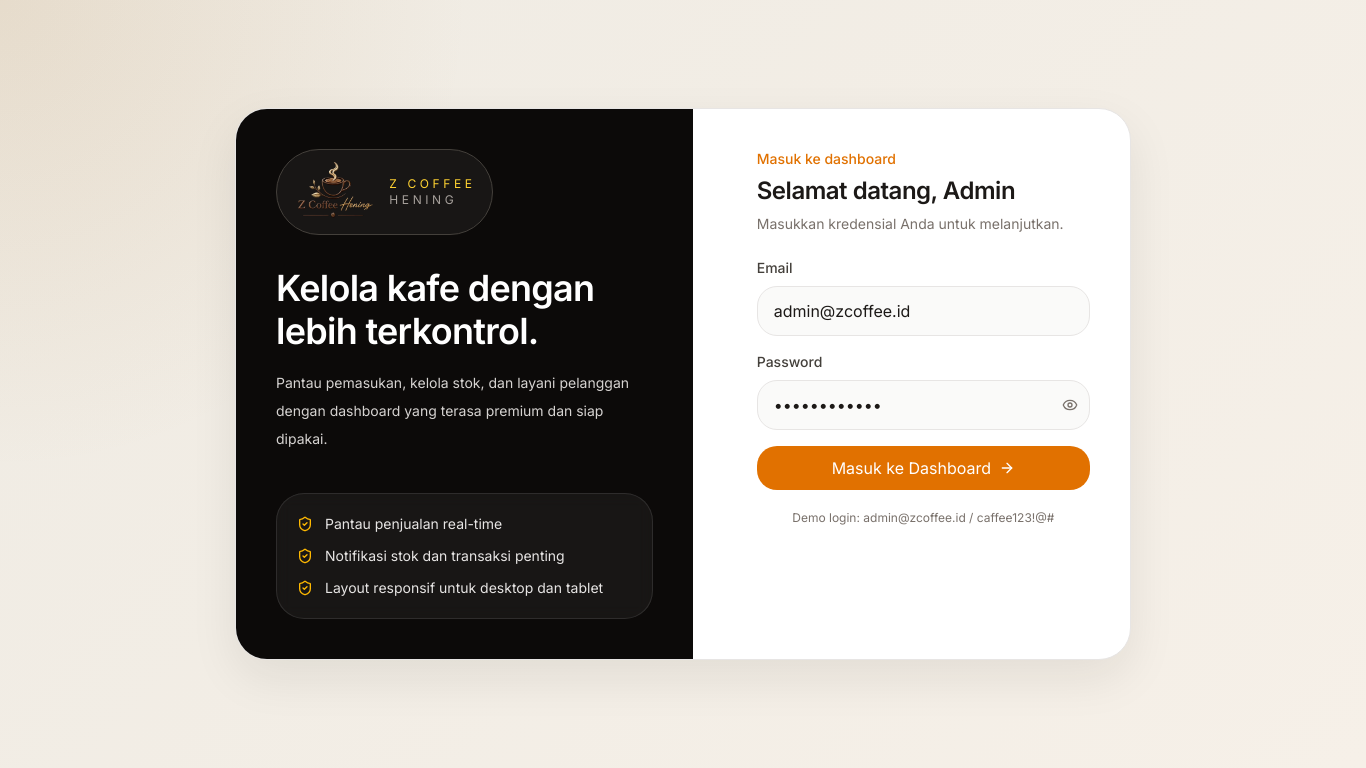
Scenario: Login Page › shows validation error for short password
Replace the text in the field named "Email" with "test@example.com": point(923, 311) [757,286,1090,336]
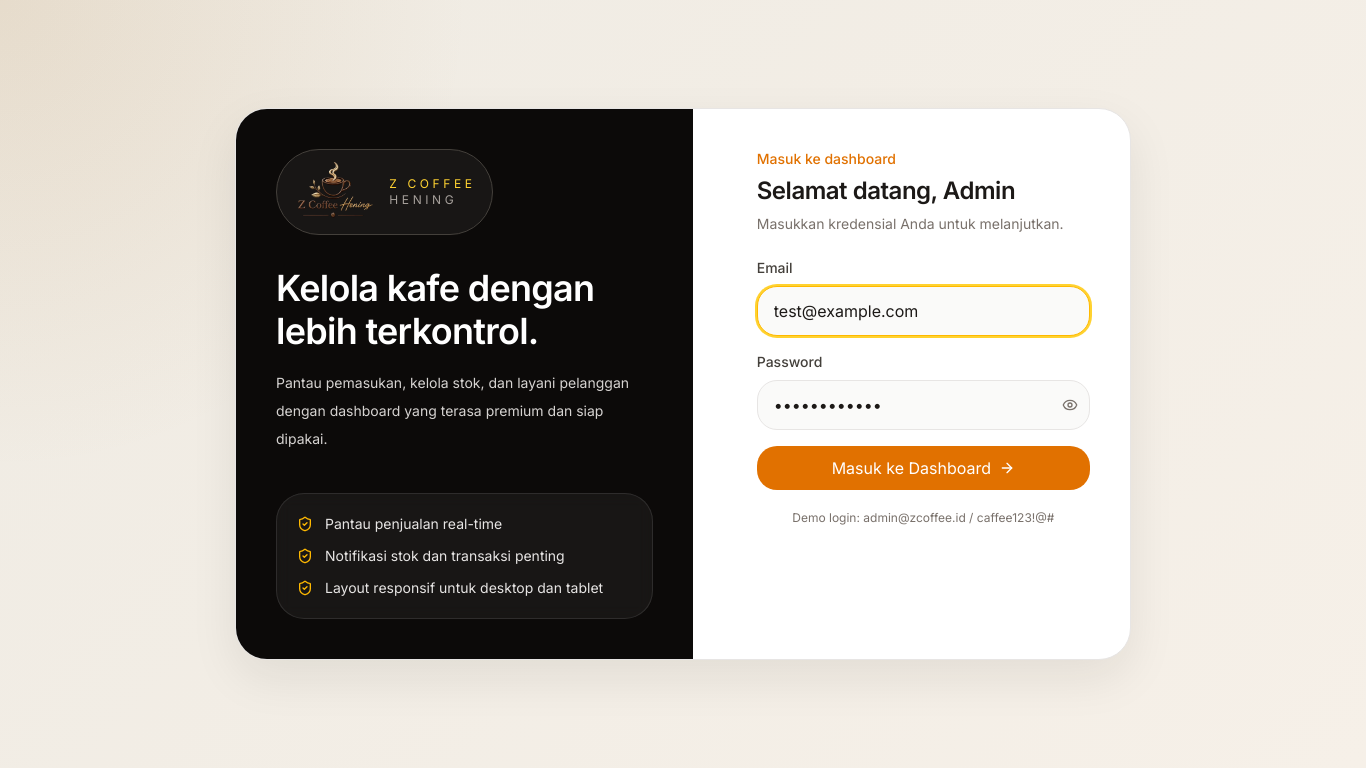
In the password field named "Password": point(923, 405) [757,380,1090,430], type "short"
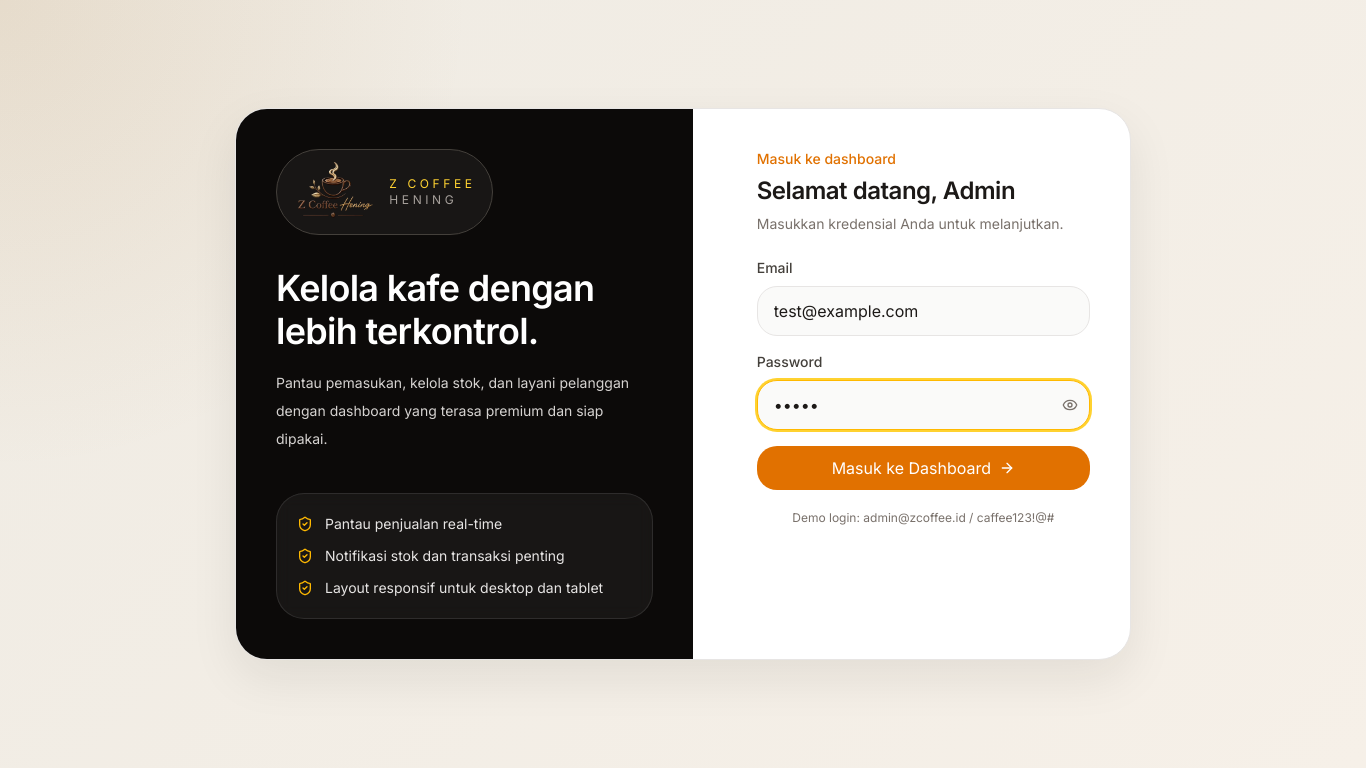
Click the button "Masuk ke Dashboard": point(923, 468) [757,446,1090,490]
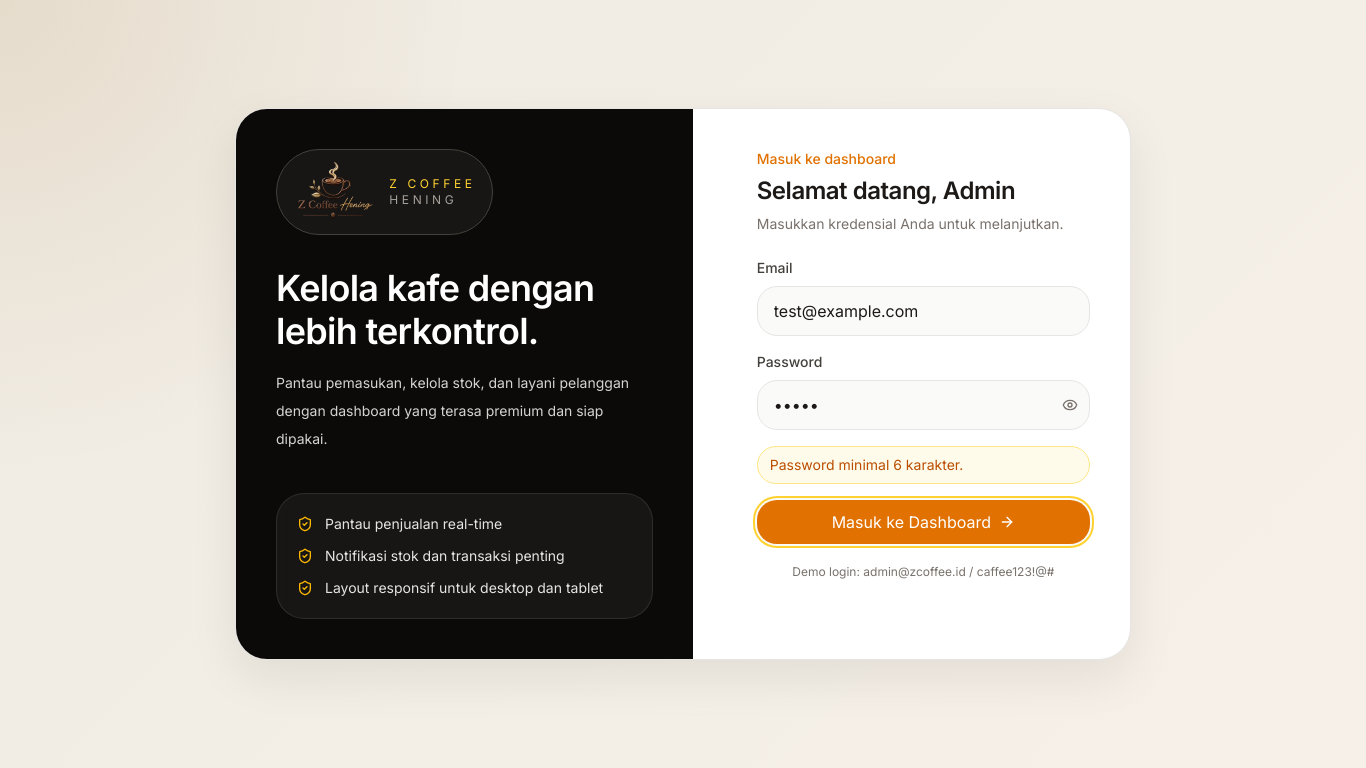
Check: the text "Password minimal 6 karakter." is shown, box [757,446,1090,484]
